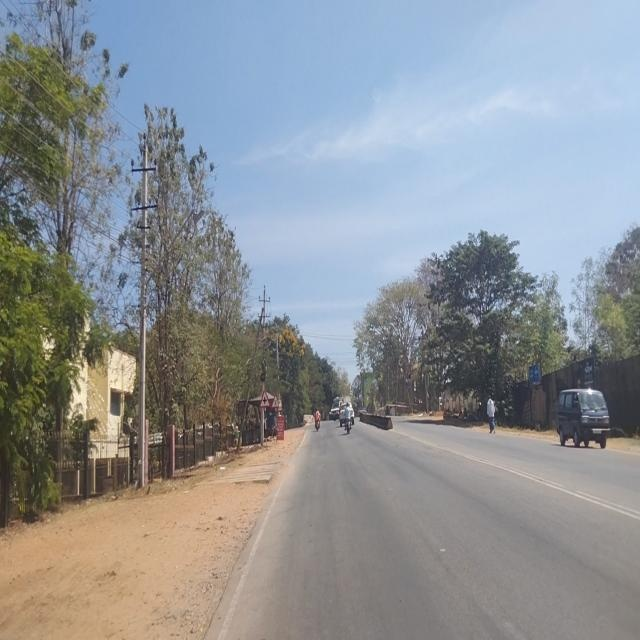bien_nguy_hiem: (260, 390, 270, 408)
